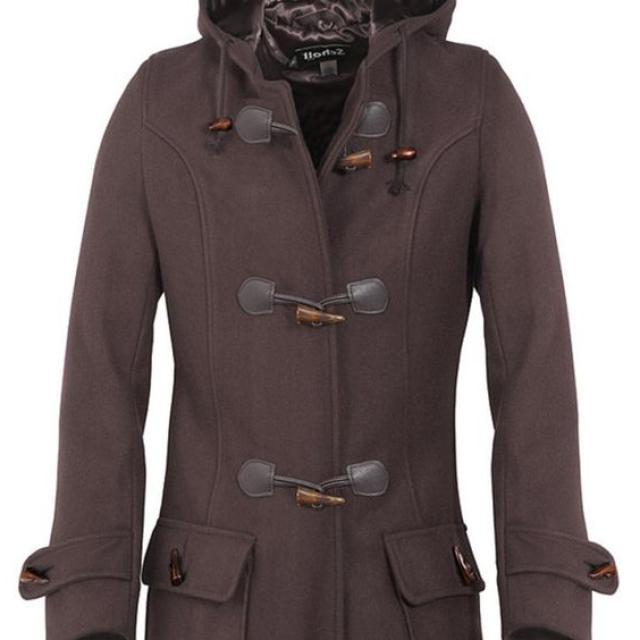coat: (16, 0, 622, 640)
